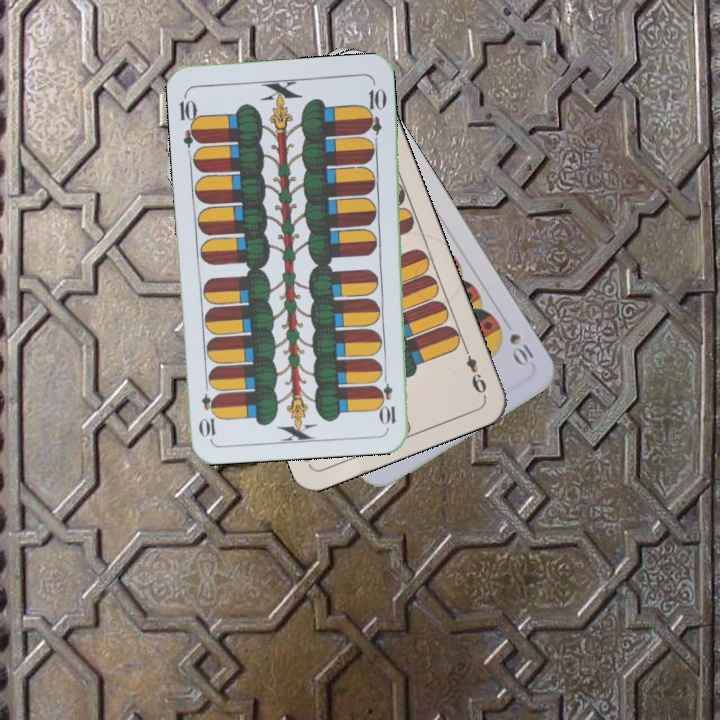E10: (175, 90, 204, 149), (377, 368, 399, 427)
E9: (460, 342, 489, 399)
S10: (505, 329, 537, 370)
